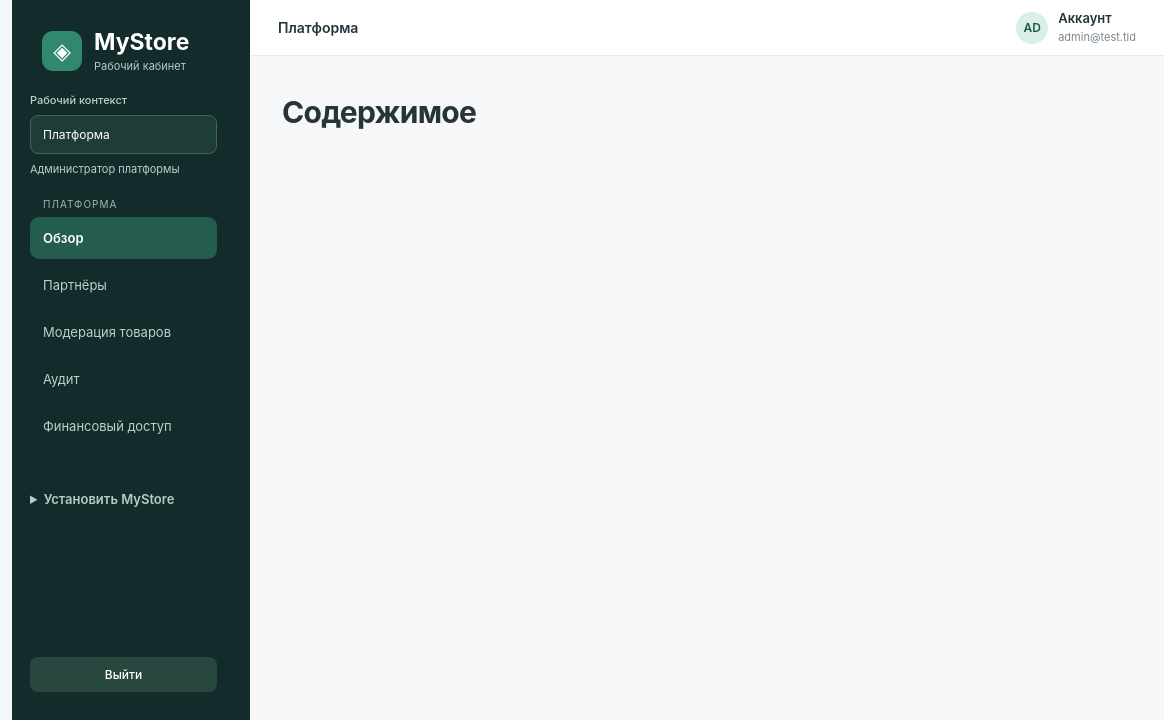
Scenario: keeps one account and brand while switching between platform and owned shop
Expected: the text "Рабочий кабинет" is shown once, 94,59 -> 189,73
Expected: the text "admin@test.tld" is shown once, 1058,30 -> 1136,45
Select "Магазин: Мой магазин" in the dropdown labelled "Рабочий контекст". click: x=124, y=134
box: 30,115 -> 217,154
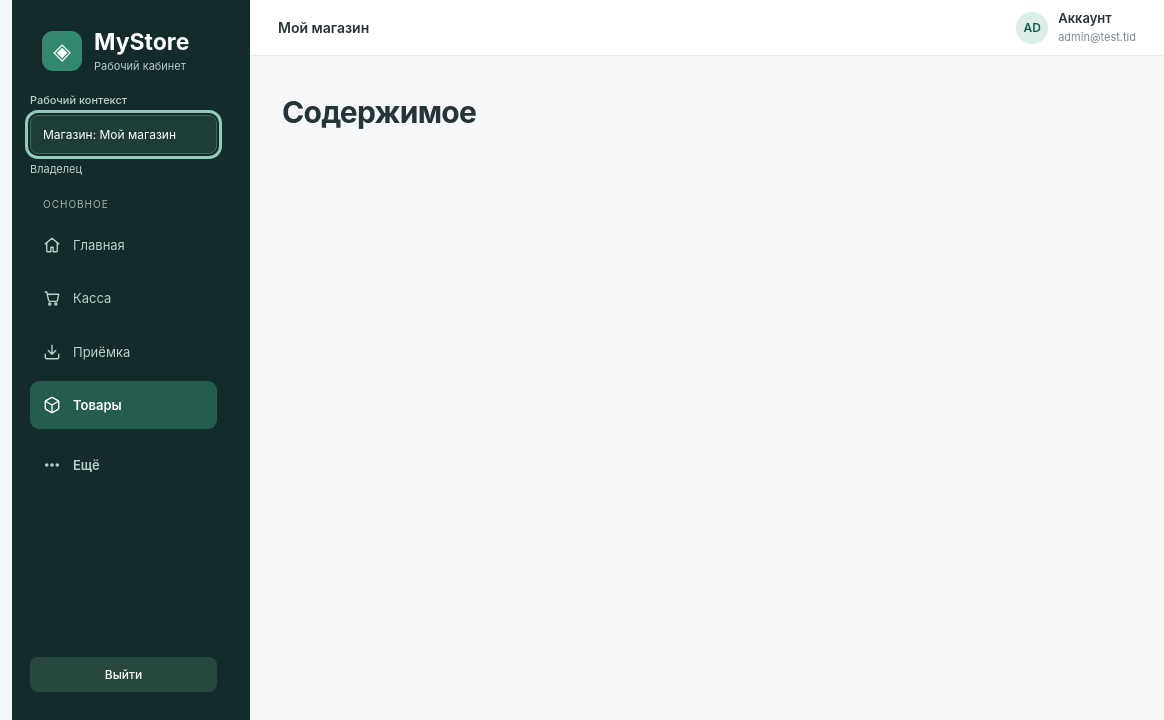
Expected: the text "admin@test.tld" is shown once, 1058,30 -> 1136,45
Expected: the text "Владелец" is shown, 30,162 -> 82,176
Expected: the link "Товары" is shown, 30,381 -> 217,429
Select "Платформа" in the dropdown labelled "Рабочий контекст". click: x=124, y=134
box: 30,115 -> 217,154
(page scrolled)
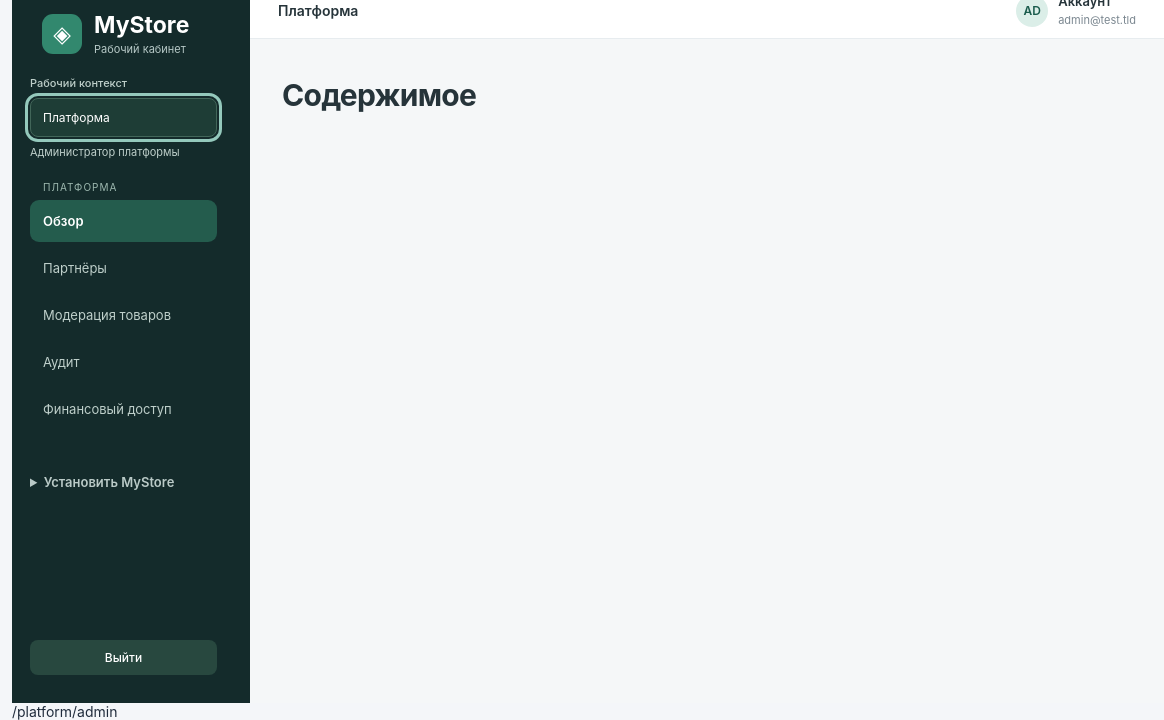
Expected: the text named "Адрес" reads "/platform/admin", 12,703 -> 117,719
